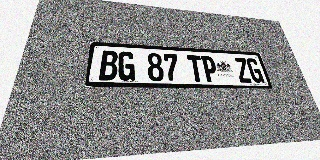7: (162, 54, 180, 82)
8: (147, 53, 164, 81)
B: (99, 50, 118, 81)
G: (118, 51, 135, 81), (245, 58, 265, 83)
P: (200, 56, 219, 82)
T: (187, 55, 205, 82)
Z: (233, 57, 253, 83)
